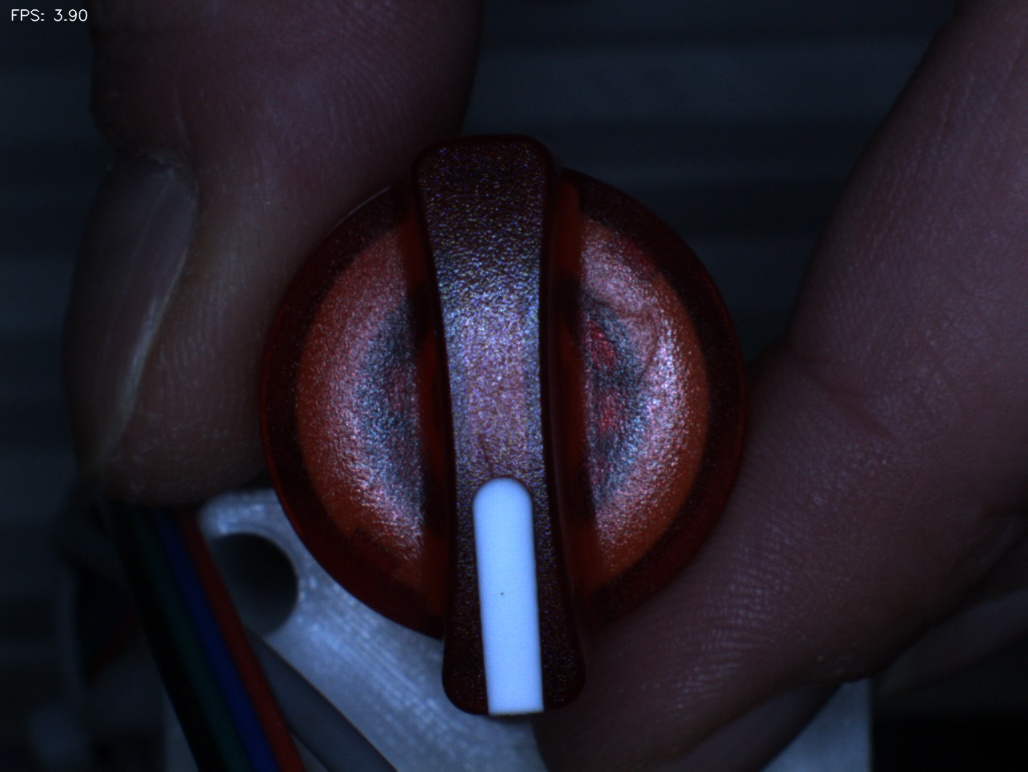PointNoir: (473, 565, 534, 632)
